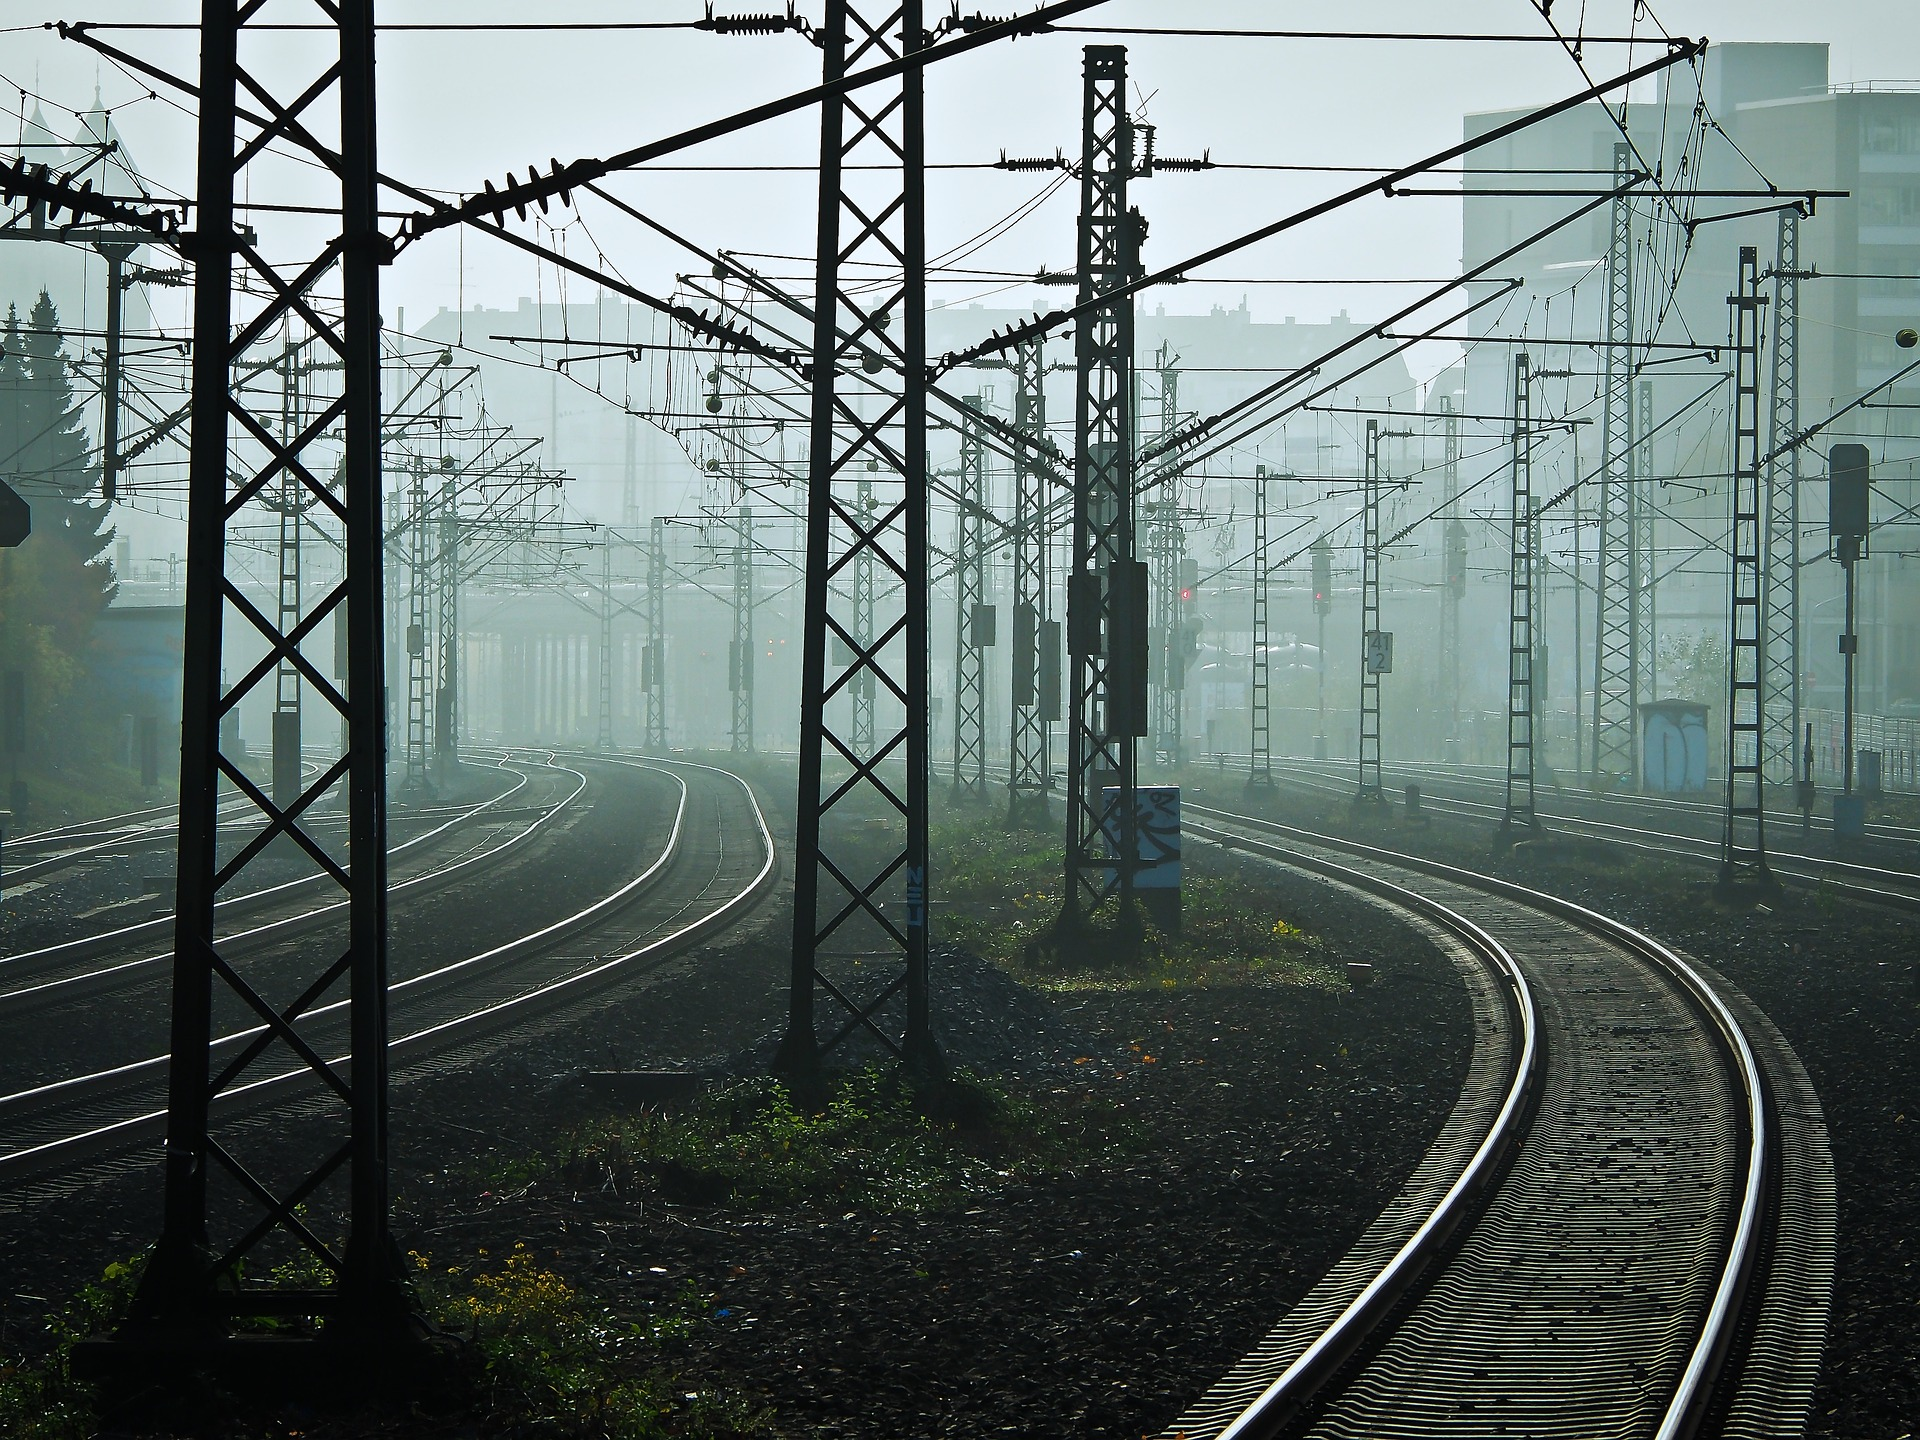voie1: (0, 776, 331, 874)
voie2: (12, 747, 579, 995)
voie3: (3, 761, 763, 1154)
voie4: (1190, 821, 1758, 1428)
voie5: (1377, 784, 1917, 897)
